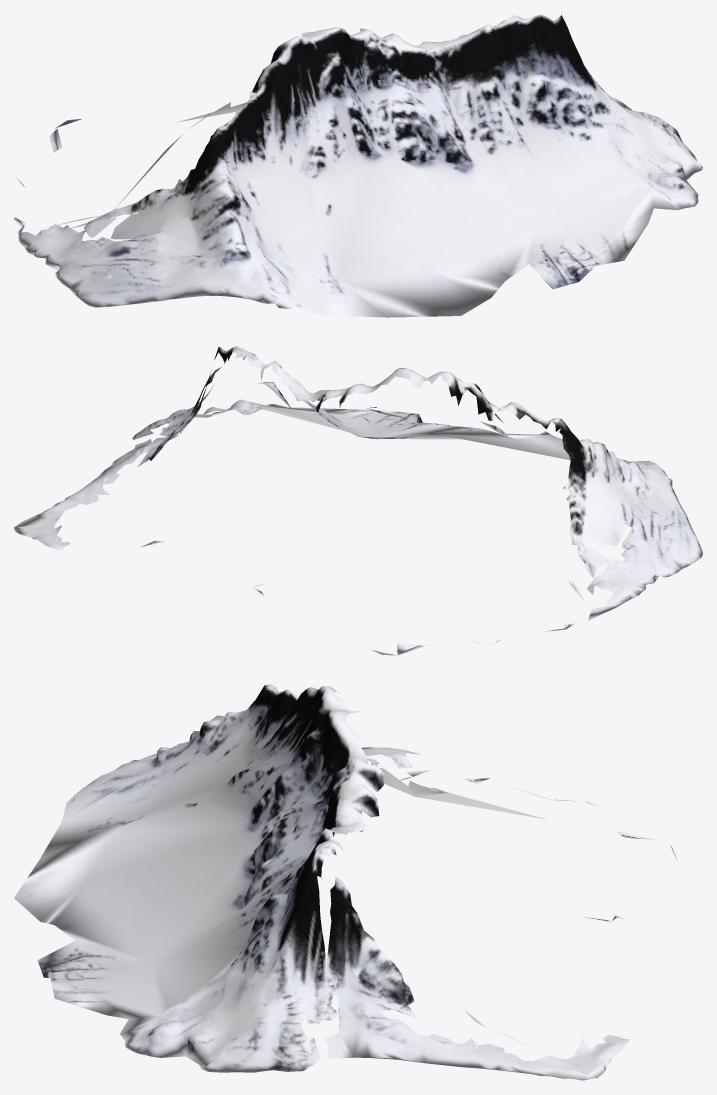
Rendered from mountain-ridge-high.glb.
The picture shows the model from 3 angles, top to bottom: view 1: azimuth 30°, elevation 25°; view 2: azimuth 150°, elevation 25°; view 3: azimuth 270°, elevation 25°; orthographic projection. The views are drawn at different scales.
Parts seen in each view (by area): view 1: mountain-ridge-high; view 2: mountain-ridge-high; view 3: mountain-ridge-high.
Boxes of the visible parts, x1=… form: mountain-ridge-high: x1=14, y1=14, x2=702, y2=317; mountain-ridge-high: x1=14, y1=346, x2=702, y2=655; mountain-ridge-high: x1=14, y1=684, x2=677, y2=1080.
Size of the model in its own units: 2 by 0.6001 by 1.76.
Materials: 1 (1 with a texture image).
